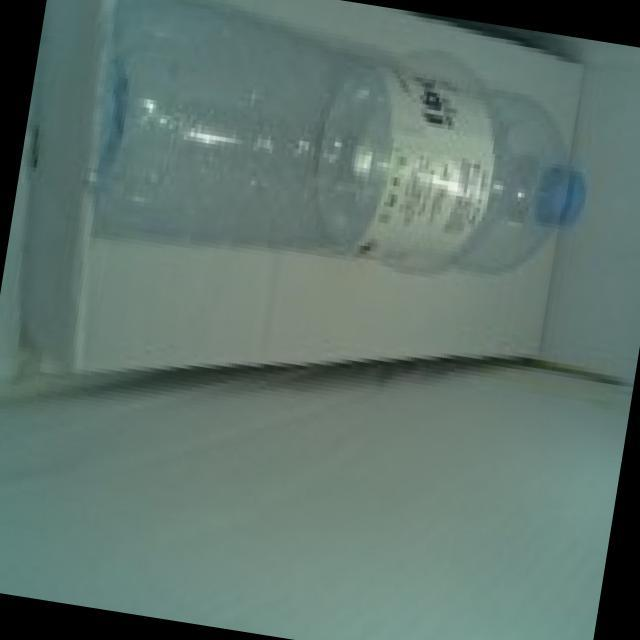good: (54, 0, 620, 333)
